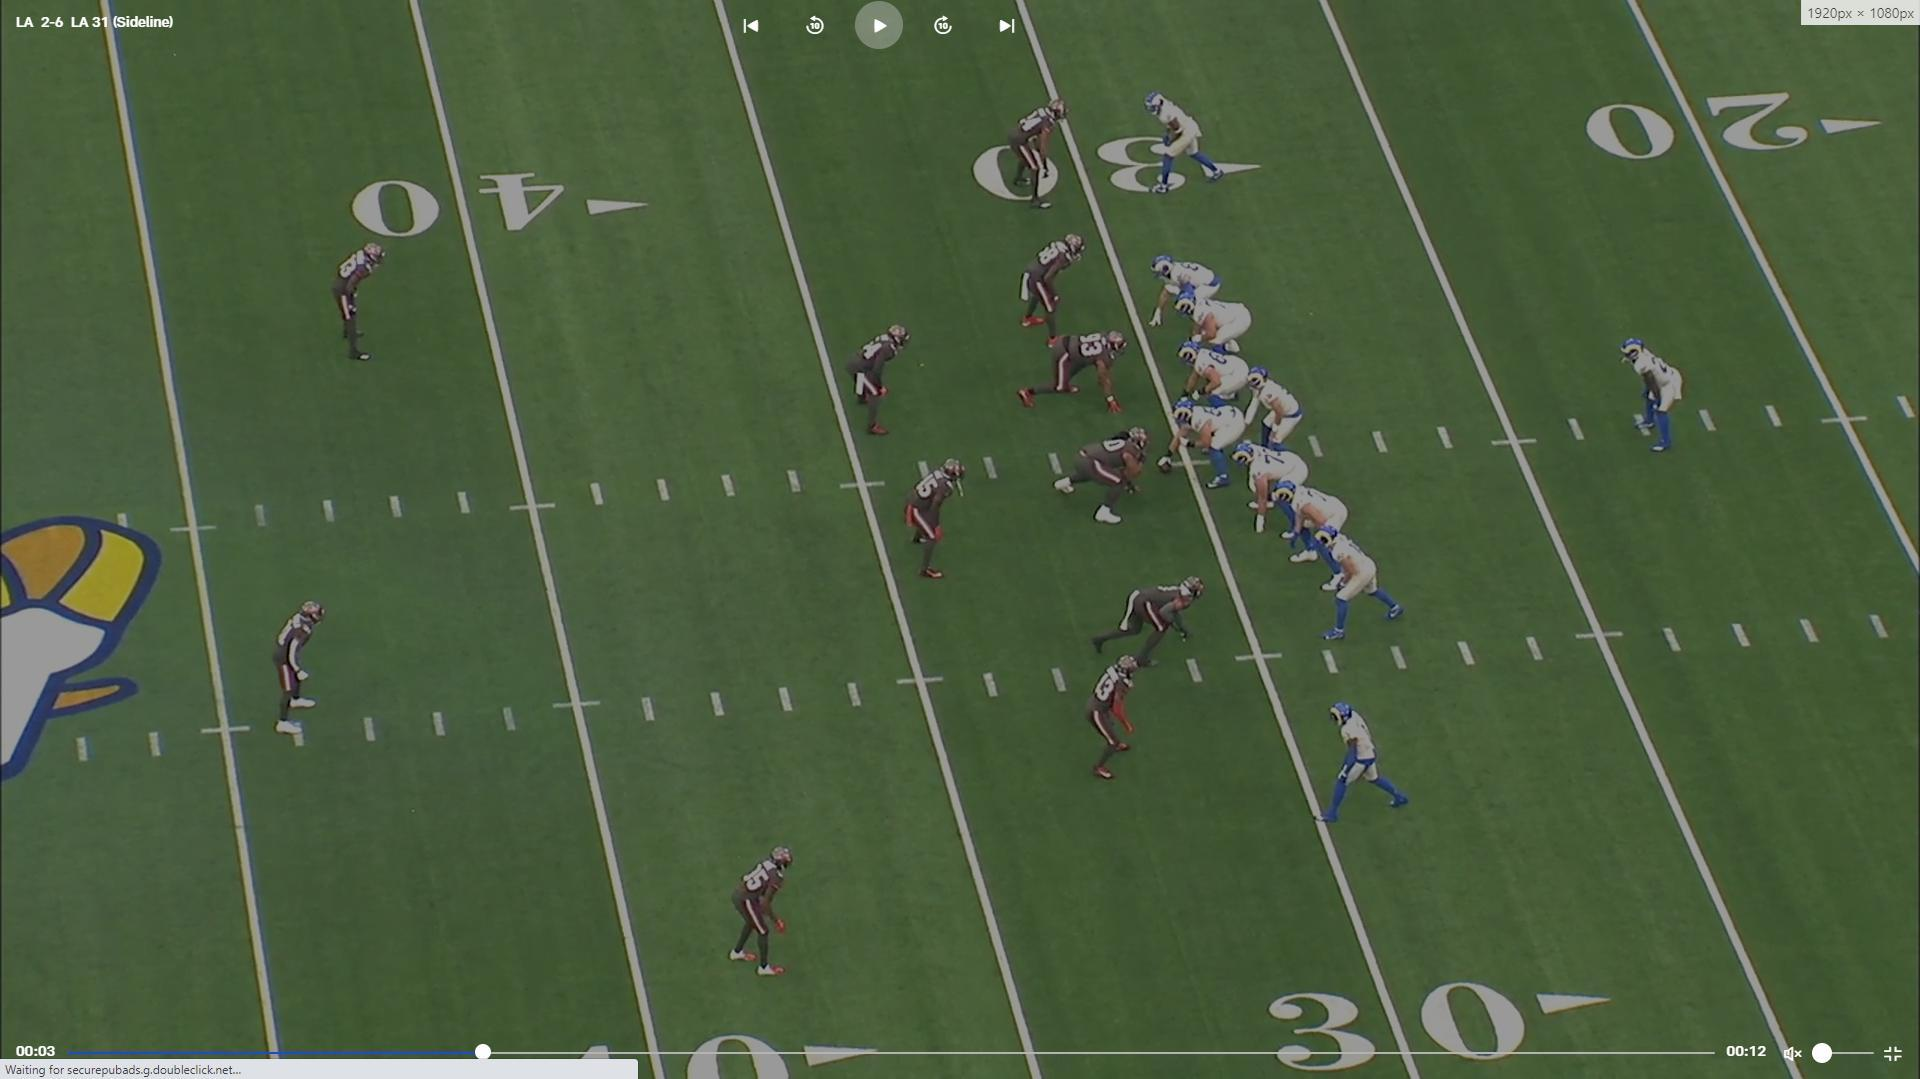player: (1314, 697, 1420, 832), (1089, 572, 1213, 668), (1312, 523, 1408, 644), (720, 837, 795, 981), (1053, 426, 1154, 530), (1018, 328, 1132, 418), (1141, 85, 1232, 195), (271, 594, 334, 740), (1618, 331, 1690, 455), (1160, 393, 1251, 489), (1084, 647, 1145, 785), (1017, 231, 1088, 346), (906, 458, 969, 587), (1239, 442, 1317, 539), (327, 238, 385, 368), (852, 320, 911, 440), (1244, 357, 1310, 462), (1278, 480, 1352, 572), (1146, 252, 1224, 334), (1175, 290, 1253, 362), (1176, 337, 1257, 405), (1015, 97, 1071, 190)
